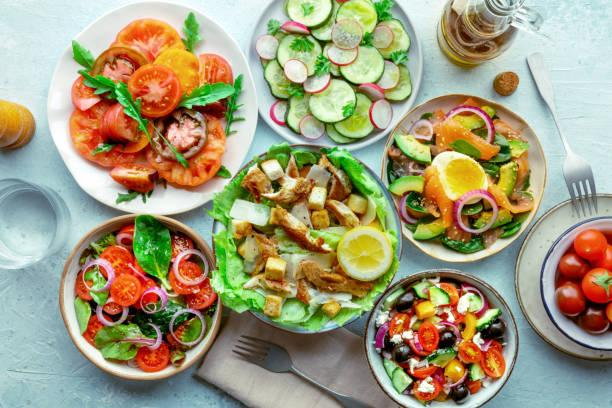Braised Crucian Carp: (51, 0, 259, 217), (213, 146, 386, 329), (382, 94, 544, 263), (56, 214, 215, 381), (246, 1, 420, 153), (365, 268, 519, 404), (514, 197, 612, 355)
